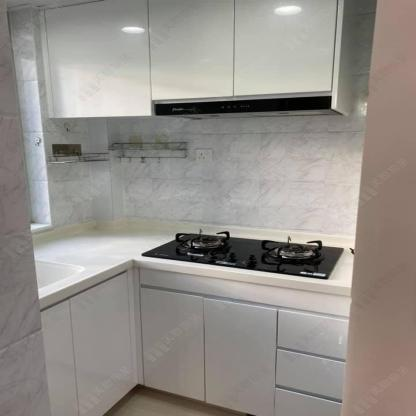Cupboard: (42, 271, 353, 415), (49, 0, 332, 117)
Exhaust Hood: (151, 96, 346, 121)
Sink: (33, 260, 83, 289)
Stove: (138, 228, 345, 279)
